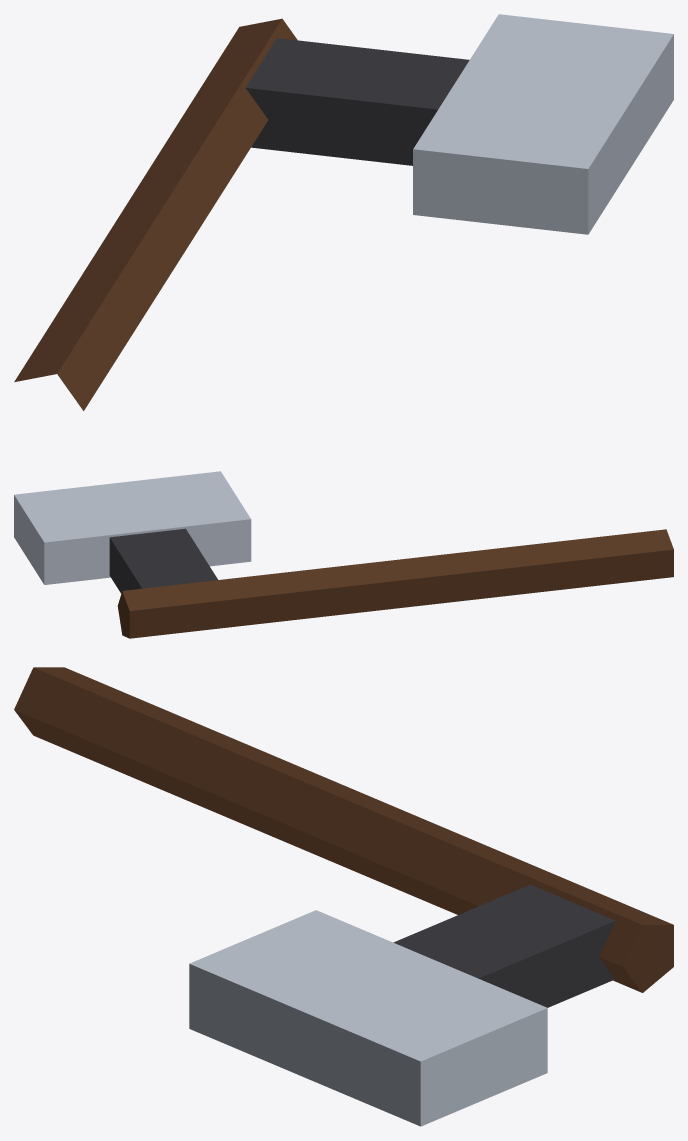
Rendered from battleaxe.glb.
3 views of the same model, one above another, from view 1: azimuth 30°, elevation 25°; view 2: azimuth 150°, elevation 25°; view 3: azimuth 270°, elevation 25° (orthographic). The views are drawn at different scales.
Visible parts, largest first — view 1: battleaxe; view 2: battleaxe; view 3: battleaxe.
Boxes of the visible parts, x1=… form: battleaxe: x1=14, y1=14, x2=673, y2=410; battleaxe: x1=14, y1=471, x2=673, y2=638; battleaxe: x1=14, y1=667, x2=673, y2=1126.
Size of the model in its own units: 1 by 0.0785 by 0.6892.
